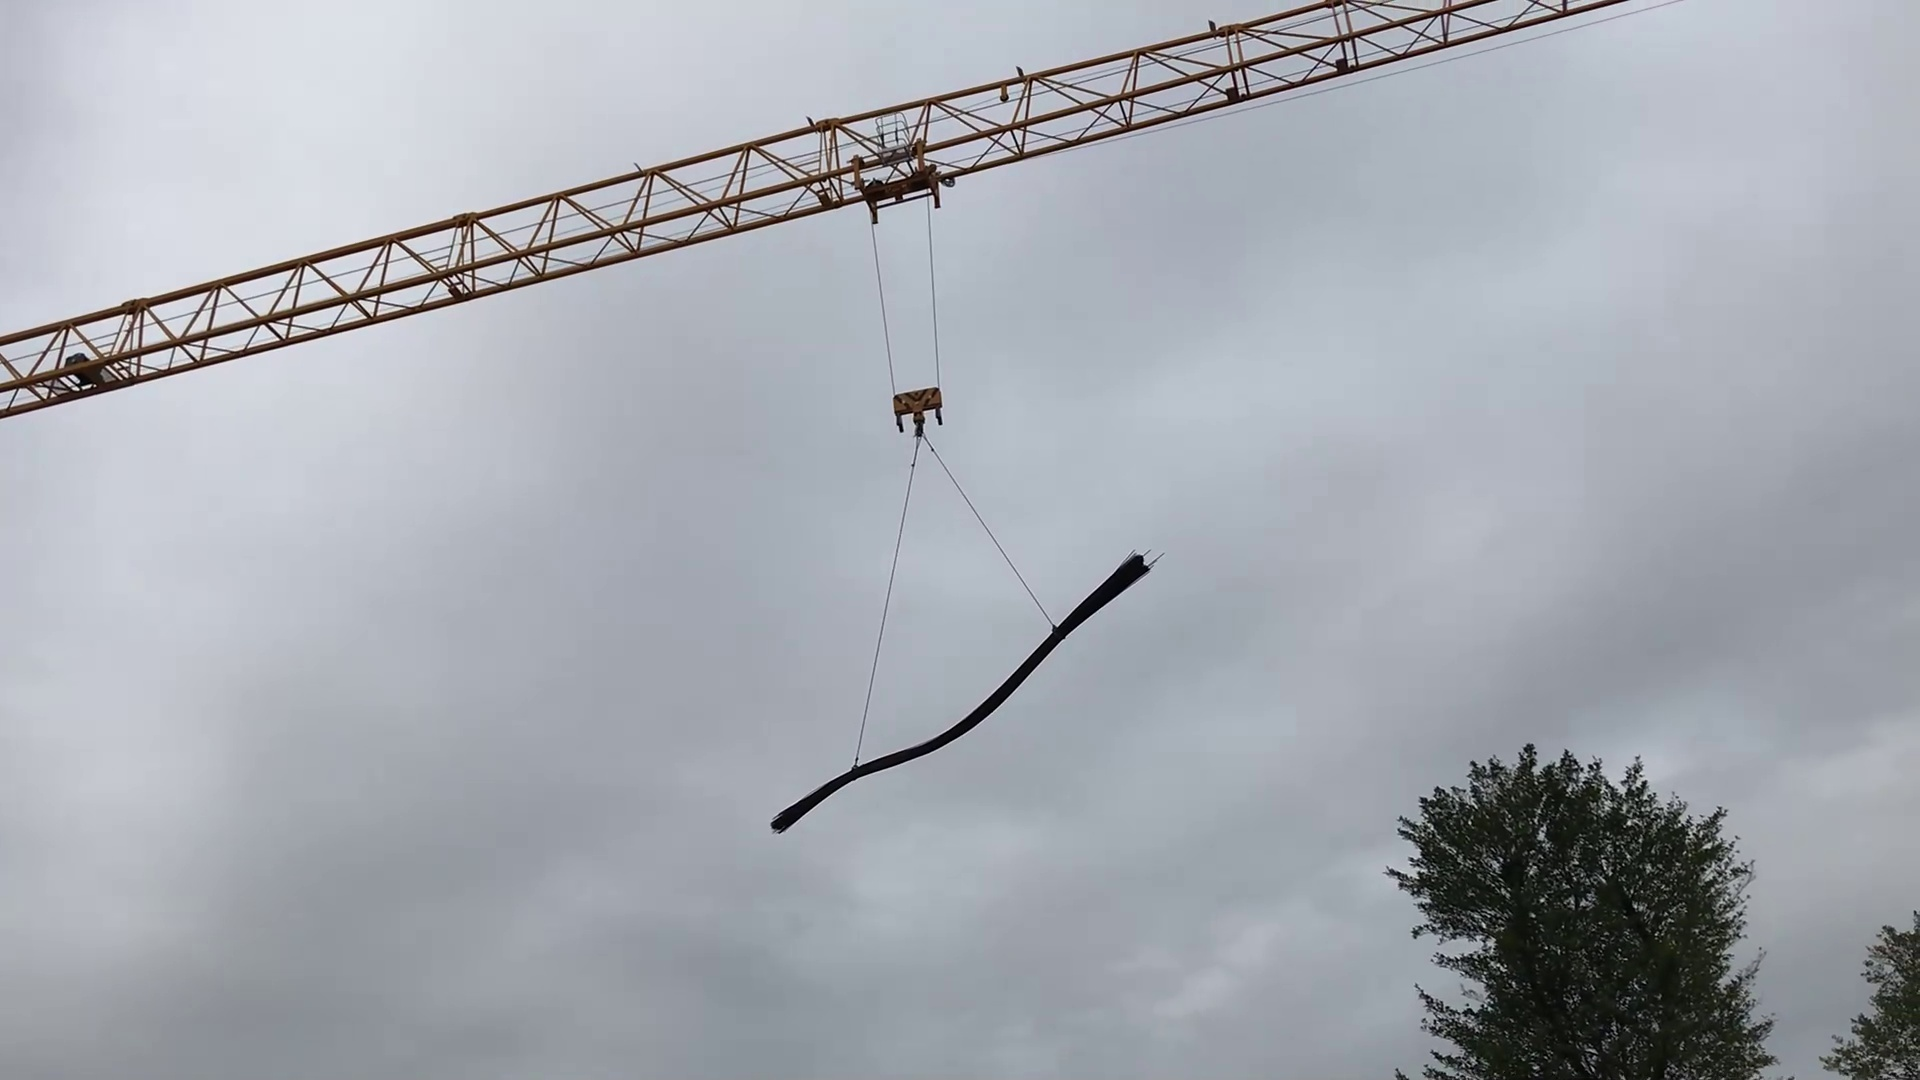hook: (891, 385, 945, 438)
